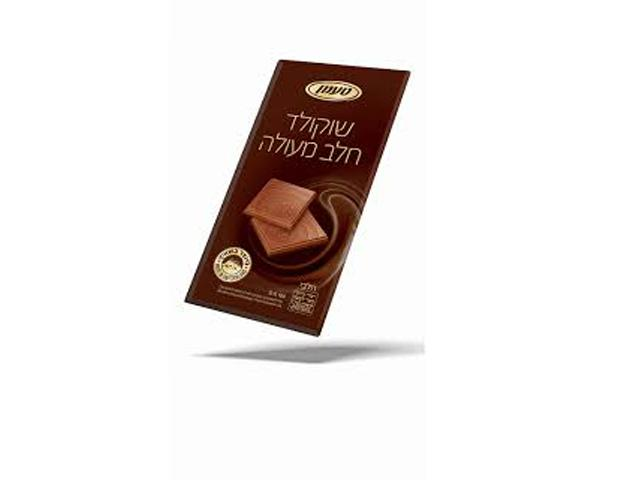chocolate: (175, 54, 412, 348)
